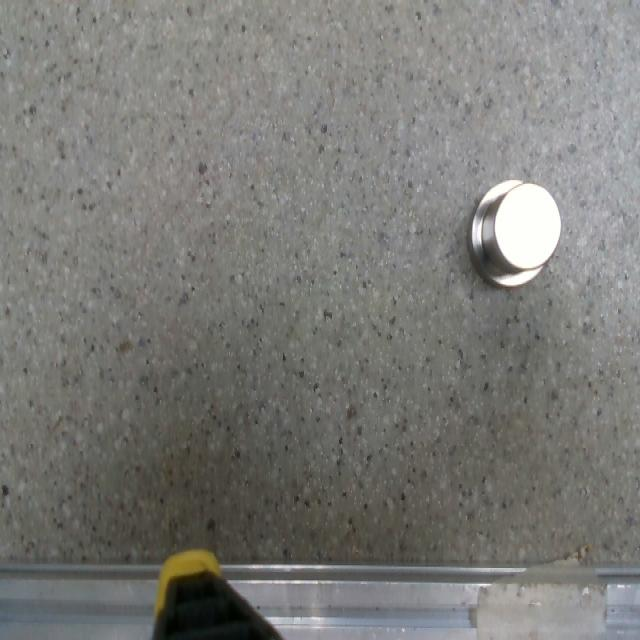sensor: (467, 175, 562, 287)
